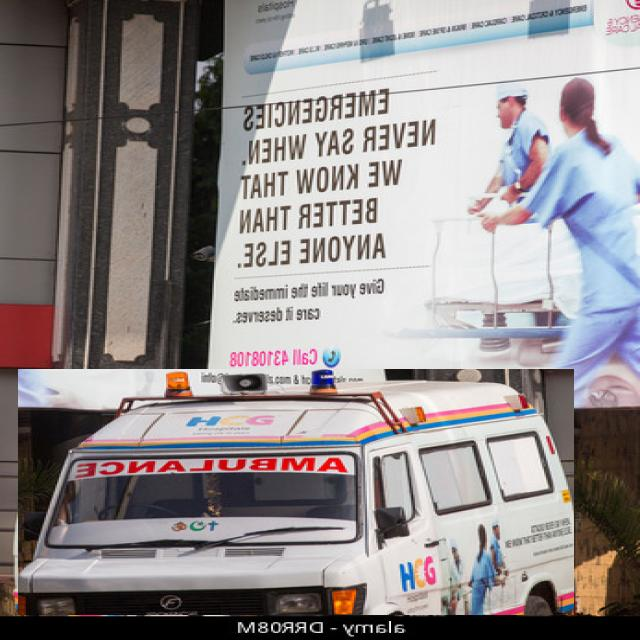emergency: (18, 370, 574, 615)
